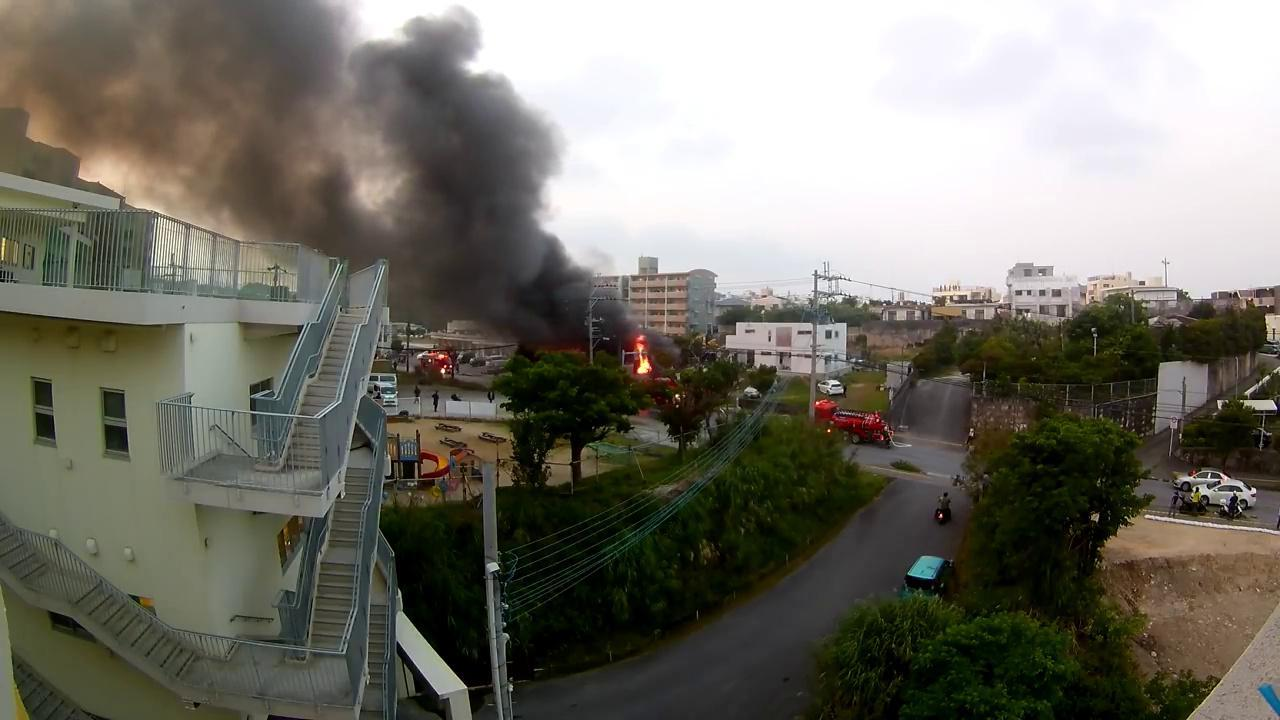Fire: (631, 338, 655, 375)
